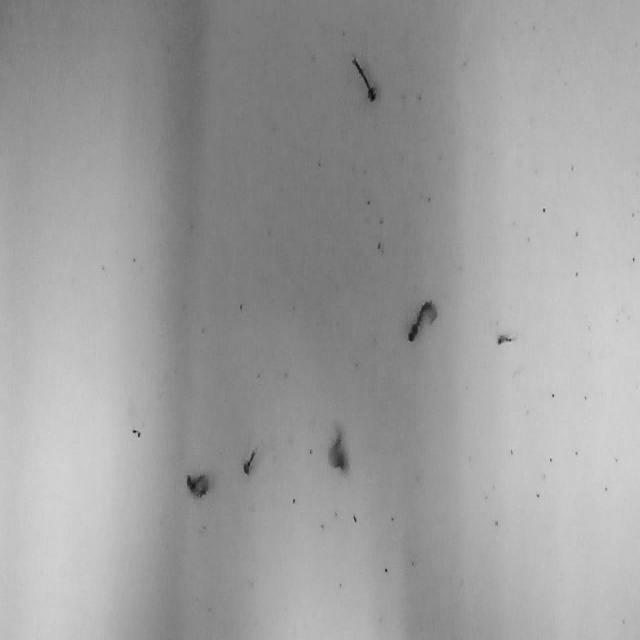larvas: (407, 300, 439, 342), (351, 57, 376, 103), (328, 428, 348, 472), (186, 473, 208, 498), (243, 450, 254, 474), (497, 332, 515, 344)
